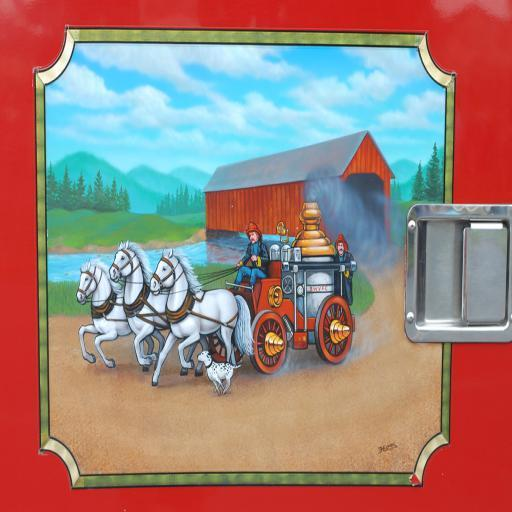horse: (147, 245, 257, 387), (108, 238, 212, 387), (76, 256, 166, 376)
